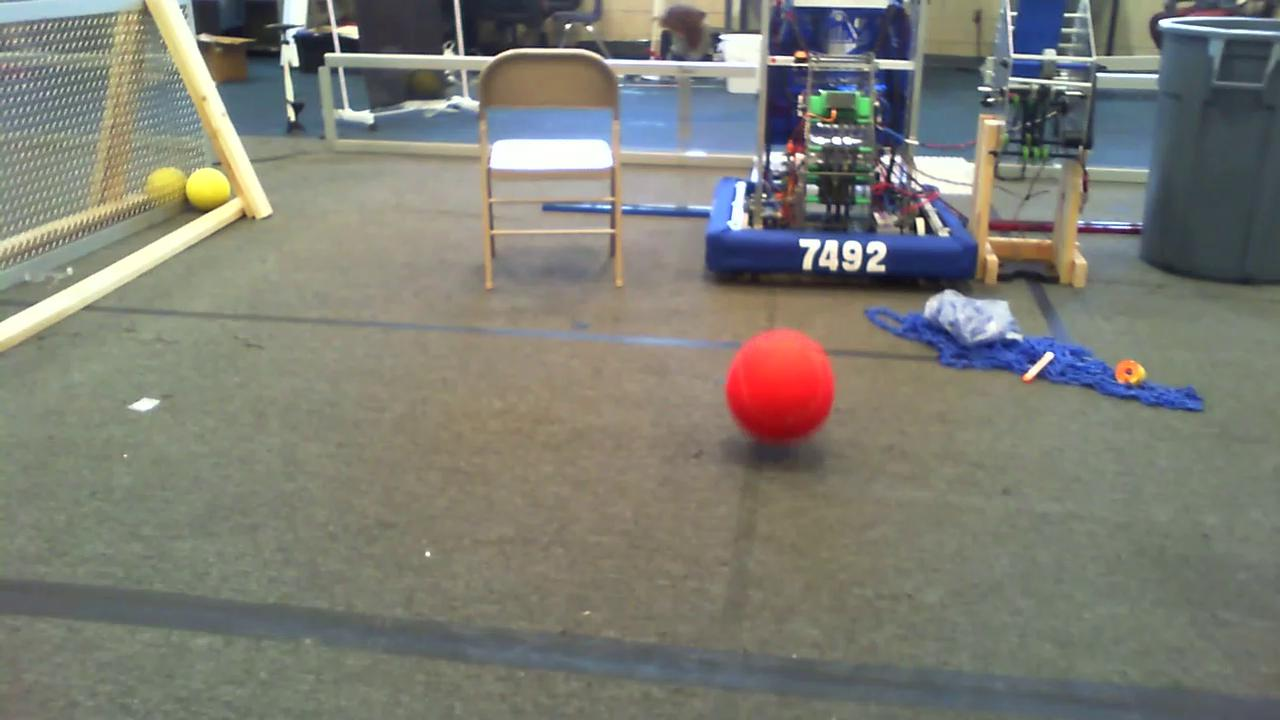Red_Ball: (713, 324, 864, 451)
